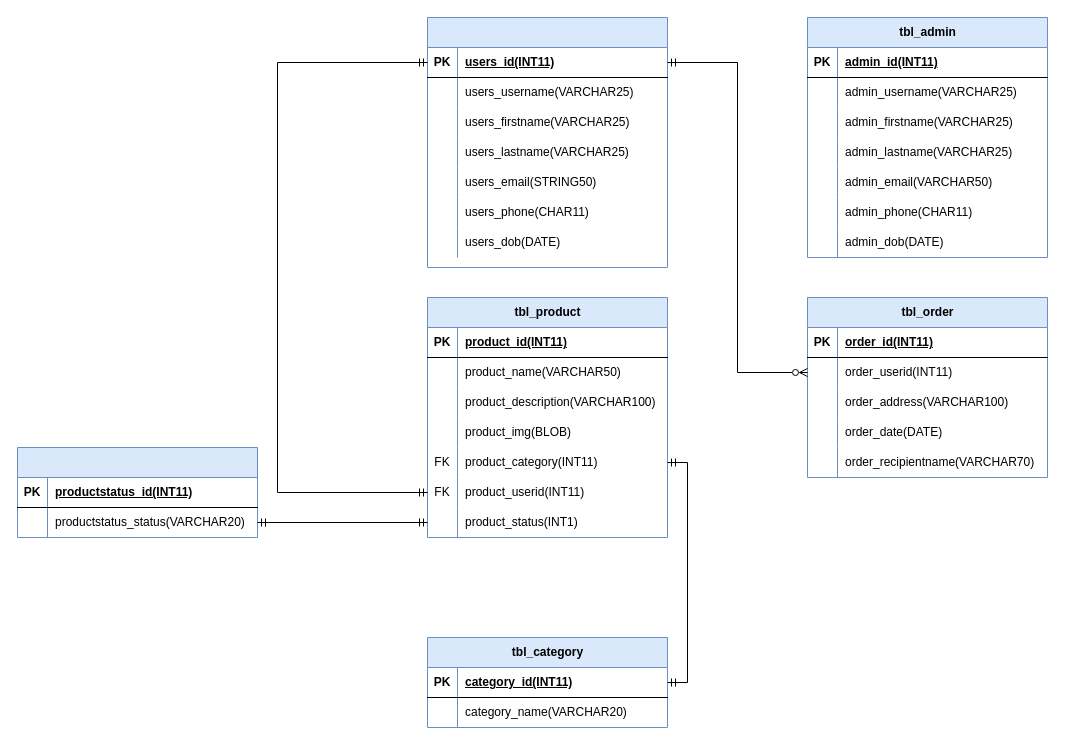
The diagram is 1065 pixels wide and 745 high, and some of its shapes have lost their labels. The shapes that lost their labels are listed below. From the top down, each one's box as (x1, y1, x2, y2) in pixels, then its label:
(426, 16, 668, 268): tbl_users
(16, 446, 258, 538): tbl_productstatus
